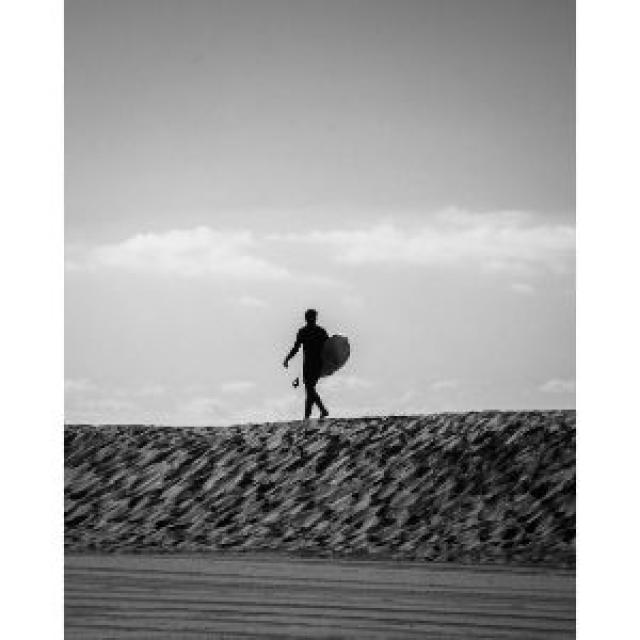nonfall: (282, 299, 347, 428)
